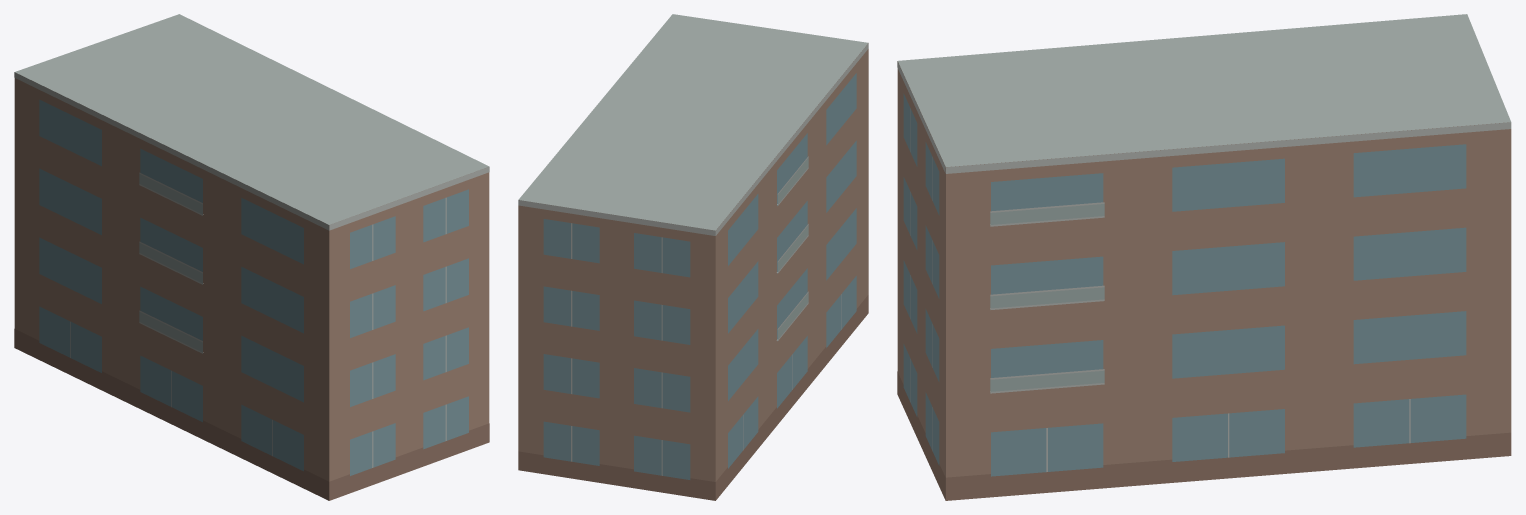
Rendered from survey-upis-32969352.glb.
3 views of the same model, side by side, from view 1: azimuth 30°, elevation 25°; view 2: azimuth 150°, elevation 25°; view 3: azimuth 270°, elevation 25° (orthographic). The views are drawn at different scales.
Visible parts, largest first — view 1: survey-upis-32969352.tmp; view 2: survey-upis-32969352.tmp; view 3: survey-upis-32969352.tmp.
Part boxes in pixels (x1=…): survey-upis-32969352.tmp: x1=14, y1=14, x2=489, y2=500; survey-upis-32969352.tmp: x1=518, y1=14, x2=868, y2=500; survey-upis-32969352.tmp: x1=897, y1=14, x2=1511, y2=500.
Size of the model in its own units: 11.72 by 11.9 by 19.85.
